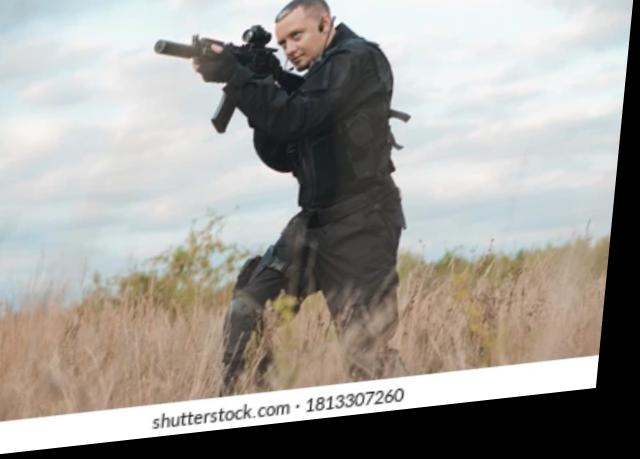other: (145, 0, 426, 404)
